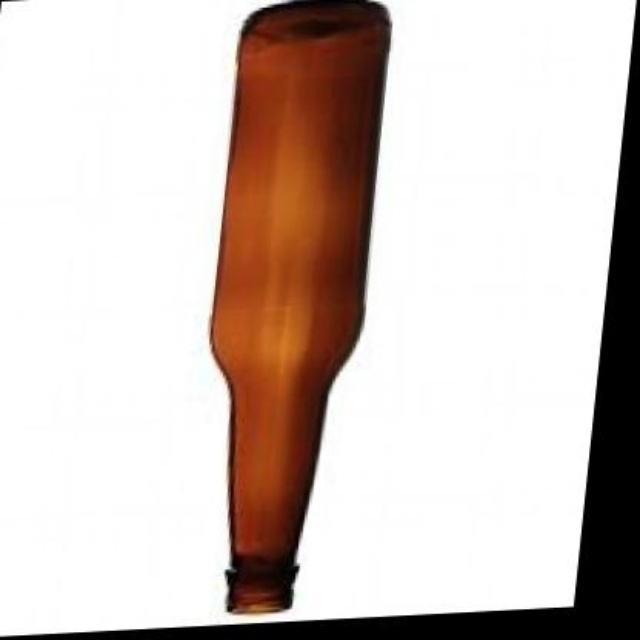trash: (211, 0, 389, 612)
